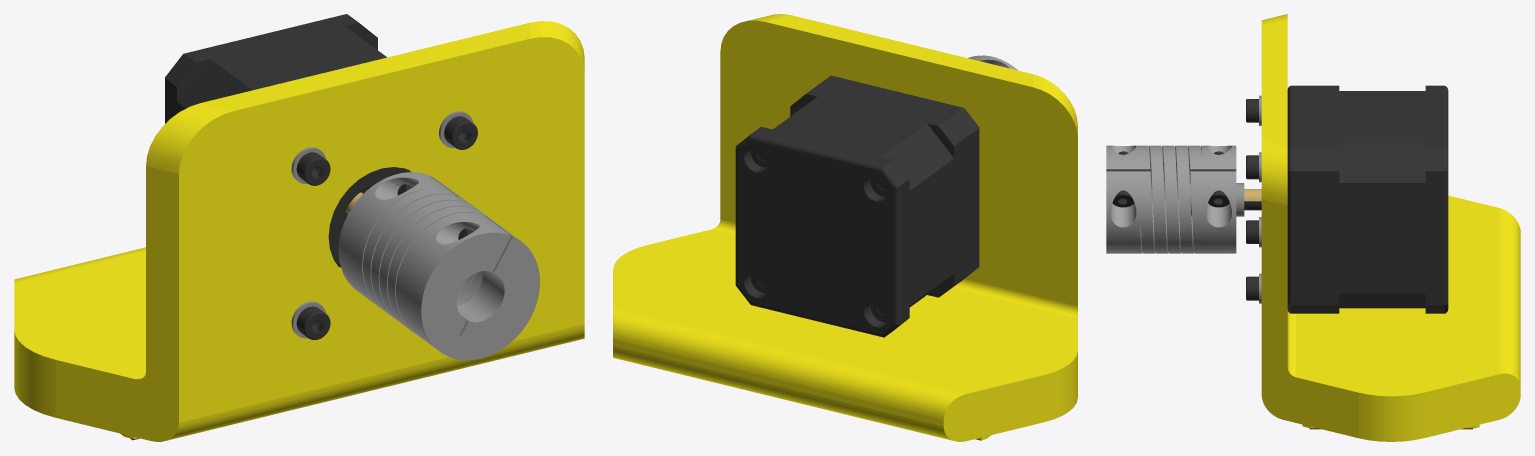
Rendered from motorsystem.glb.
The picture shows the model from 3 angles, left to right: view 1: azimuth 30°, elevation 25°; view 2: azimuth 150°, elevation 25°; view 3: azimuth 270°, elevation 25°; orthographic projection. The views are drawn at different scales.
Visible parts, largest first — view 1: Body1, Body1005, Body1002, Body1008, Body1012, Body1010; view 2: Body1, Body1002; view 3: Body1, Body1002, Body1005.
Boxes of the visible parts, <box> form: Body1: <box>14,21,584,441</box>; Body1005: <box>338,172,539,360</box>; Body1002: <box>165,14,410,267</box>; Body1008: <box>444,116,477,149</box>; Body1012: <box>296,152,330,185</box>; Body1010: <box>296,306,330,339</box>; Body1: <box>613,14,1077,441</box>; Body1002: <box>735,75,979,337</box>; Body1: <box>1261,14,1520,441</box>; Body1002: <box>1244,85,1448,313</box>; Body1005: <box>1106,145,1236,253</box>.
Size of the model in its own units: 115 by 67.2 by 96.
